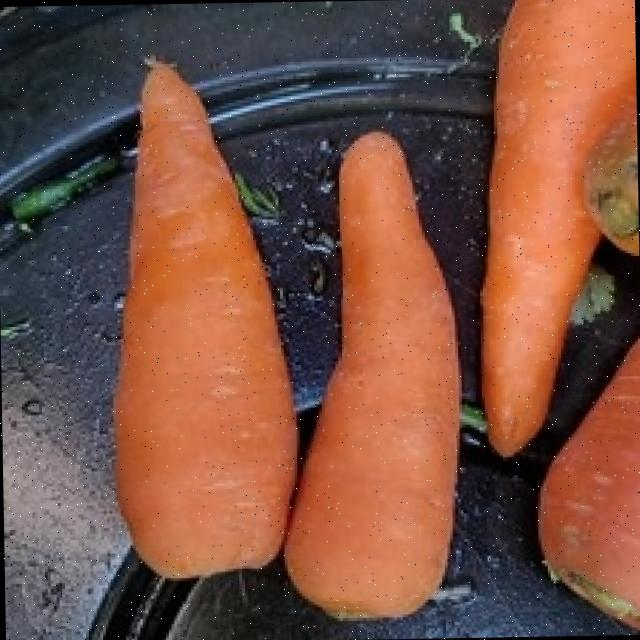carrot: (113, 69, 291, 580), (281, 136, 454, 620), (478, 0, 630, 457)
